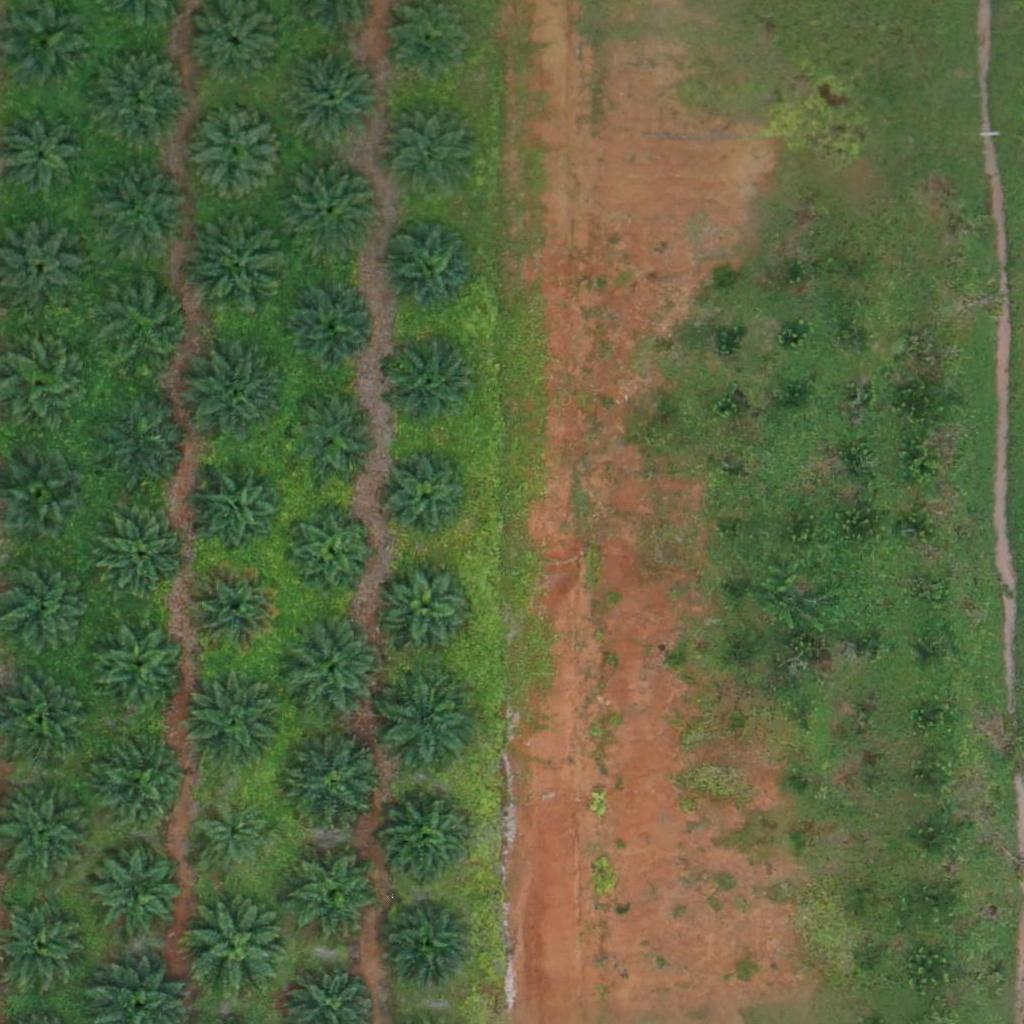Kelapa_Sawit: (90, 43, 190, 144), (95, 164, 195, 265), (186, 103, 286, 204), (185, 214, 285, 315), (186, 347, 286, 448), (288, 48, 388, 149), (281, 159, 381, 260), (380, 218, 480, 319), (190, 898, 290, 999), (90, 618, 190, 719), (91, 734, 191, 835), (98, 273, 198, 373), (97, 393, 197, 493), (375, 668, 475, 768), (280, 620, 380, 720), (282, 734, 382, 834), (185, 672, 285, 772), (286, 283, 374, 371), (388, 339, 476, 427), (384, 453, 472, 541), (385, 563, 473, 651), (292, 850, 380, 938), (99, 510, 187, 598), (290, 395, 377, 483), (386, 108, 473, 196), (195, 467, 282, 555), (385, 800, 472, 888), (386, 897, 473, 985), (287, 506, 374, 594), (191, 564, 278, 652), (94, 846, 181, 934), (197, 800, 272, 876)
